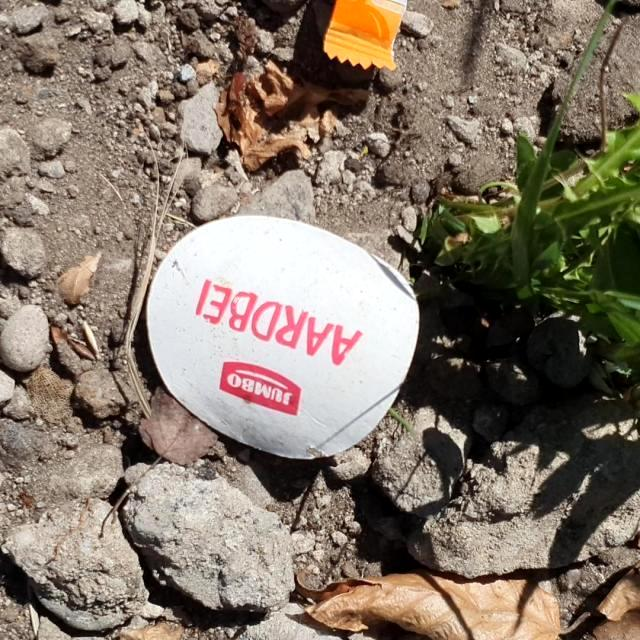Paper: (144, 213, 420, 463)
Plastic: (320, 0, 410, 72)
